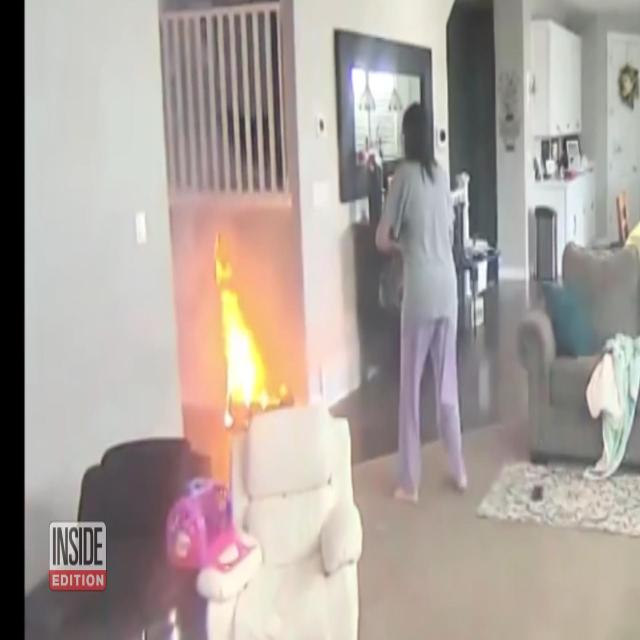fire: (215, 257, 282, 428)
